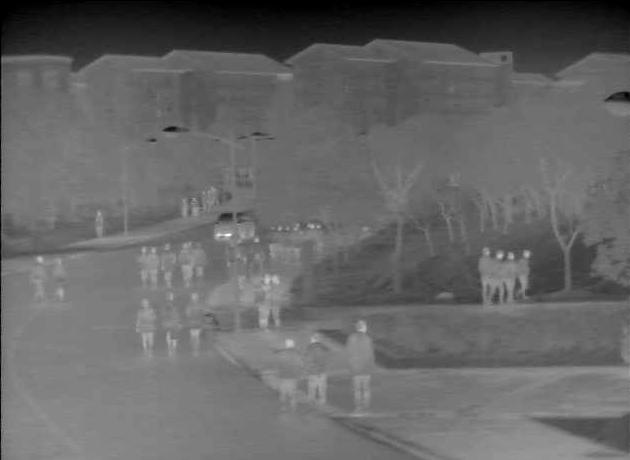people: (345, 319, 379, 411), (274, 334, 304, 416), (305, 329, 332, 408), (181, 283, 209, 356), (160, 289, 184, 356), (262, 270, 289, 329), (134, 296, 161, 355), (476, 247, 497, 305), (29, 253, 51, 302), (514, 249, 534, 299), (502, 252, 521, 302), (179, 240, 198, 290), (187, 239, 205, 289), (136, 246, 157, 288), (159, 243, 177, 292), (51, 255, 69, 300)
